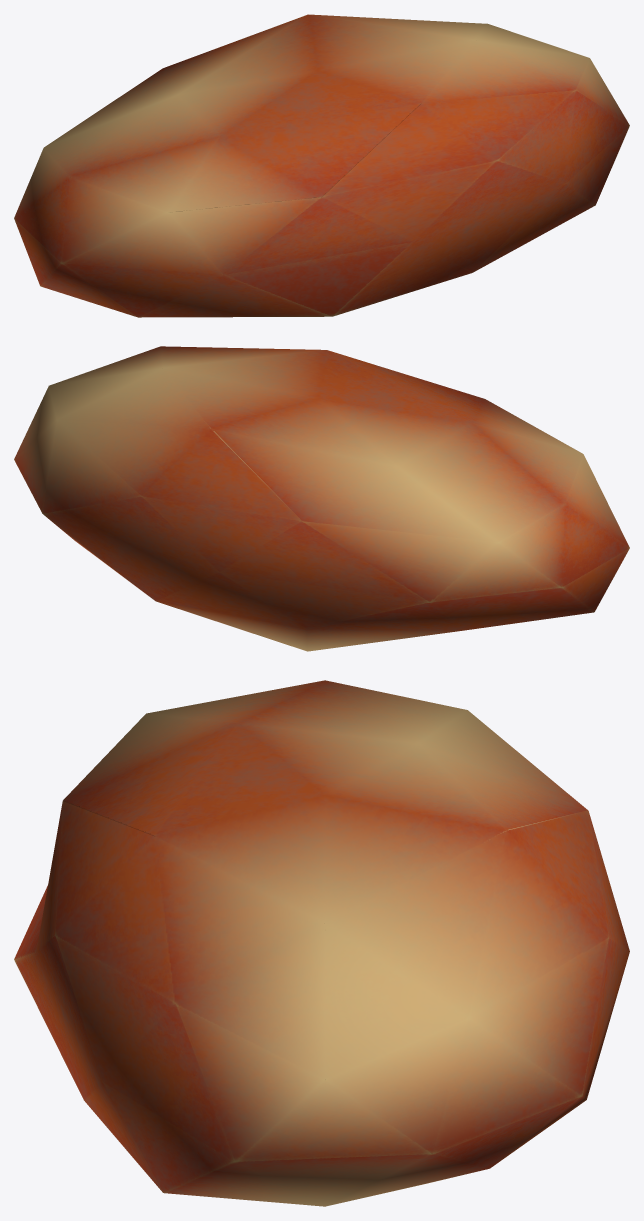
Rendered from w_rock2.fbx.
3 views of the same model, one above another, from view 1: azimuth 30°, elevation 25°; view 2: azimuth 150°, elevation 25°; view 3: azimuth 270°, elevation 25° (orthographic). The views are drawn at different scales.
Parts seen in each view (by area): view 1: W_Rock2; view 2: W_Rock2; view 3: W_Rock2.
Part boxes in pixels (<box>): W_Rock2: <box>14,14,629,317</box>; W_Rock2: <box>14,346,629,651</box>; W_Rock2: <box>14,680,629,1206</box>.
Bounding box in the file's own units: 499 × 167 × 307.
Materials: 1 (1 with a texture image).
